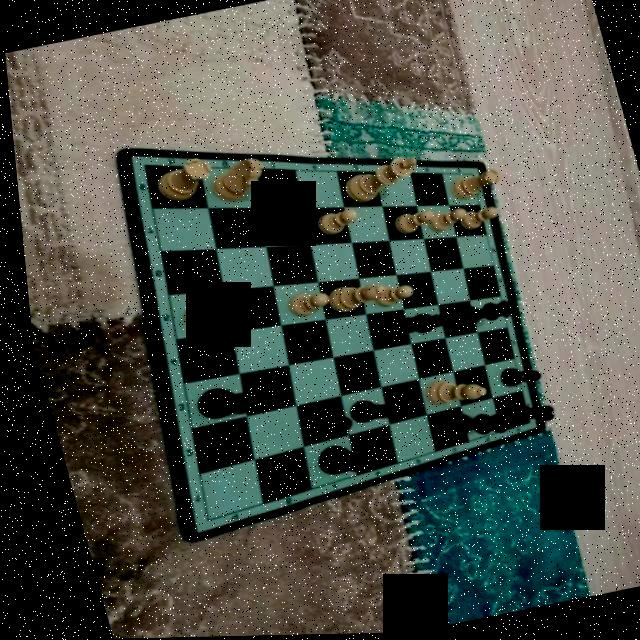chess-table-corners: (459, 166, 480, 184), (132, 156, 151, 172), (188, 511, 206, 527), (512, 419, 527, 431)
